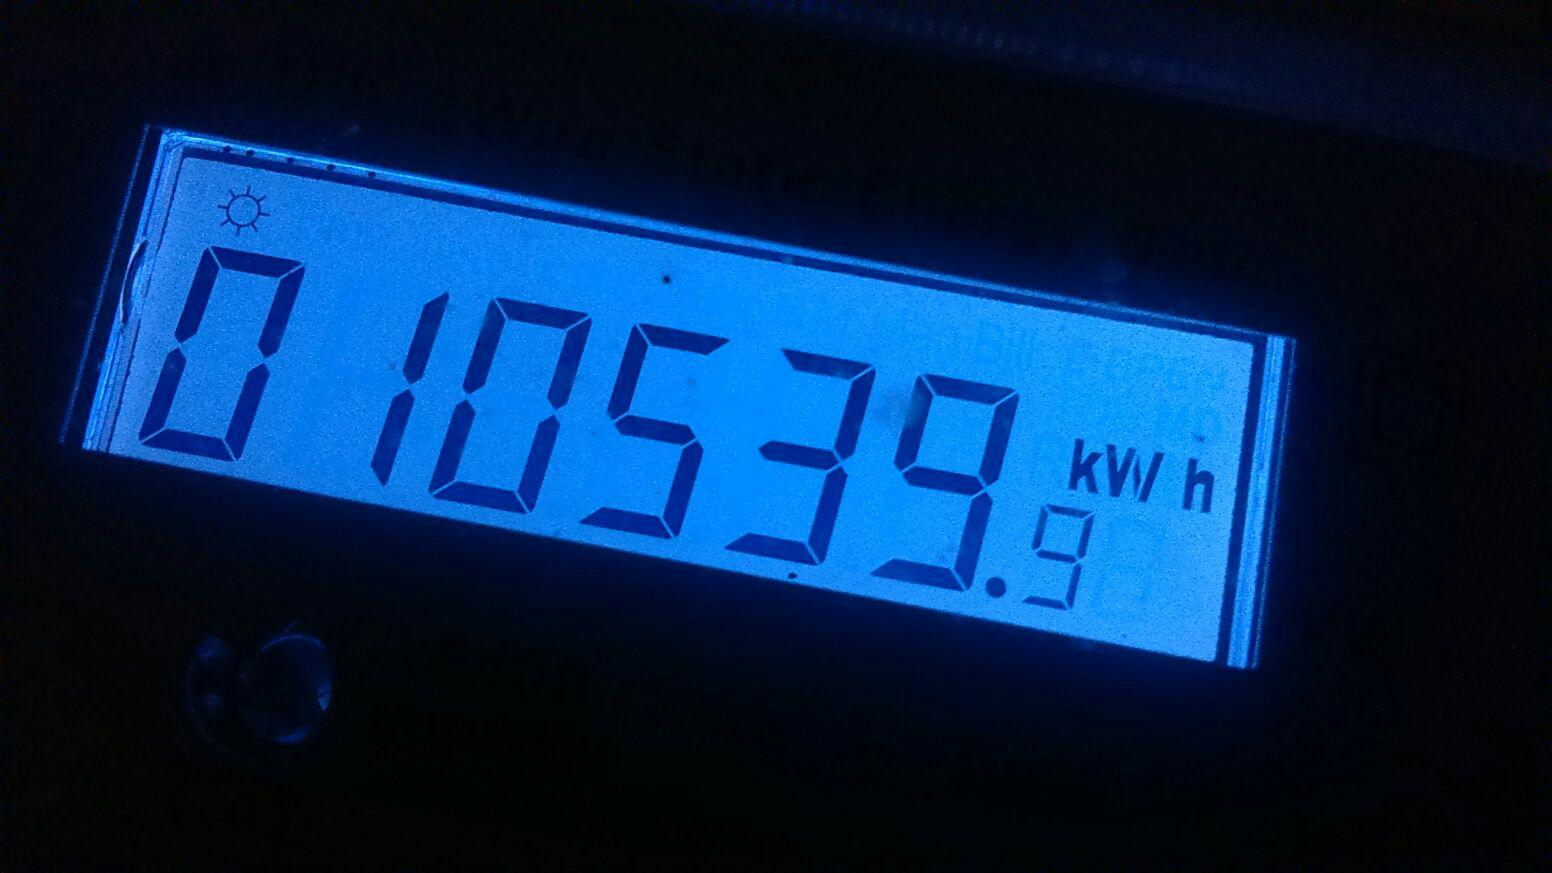.: (1061, 435, 1229, 525)
0: (977, 557, 1021, 612)
1: (419, 277, 626, 509), (132, 232, 314, 465)
2: (347, 267, 473, 495)
4: (719, 312, 891, 572)
6: (582, 299, 741, 557)
object: (869, 349, 1046, 597), (1024, 494, 1108, 630)
